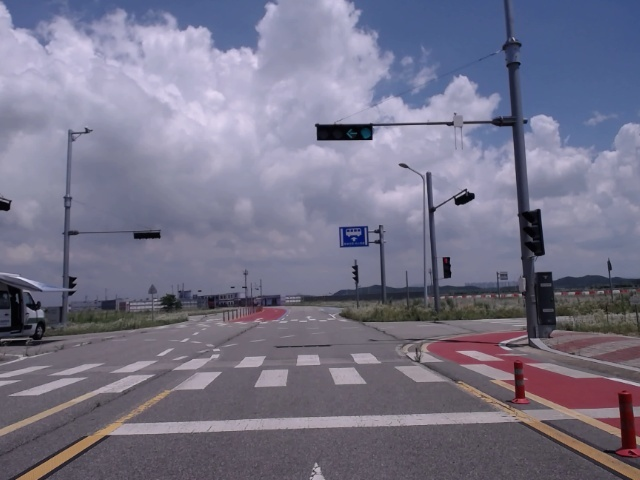all_green_4: (316, 123, 374, 142)
